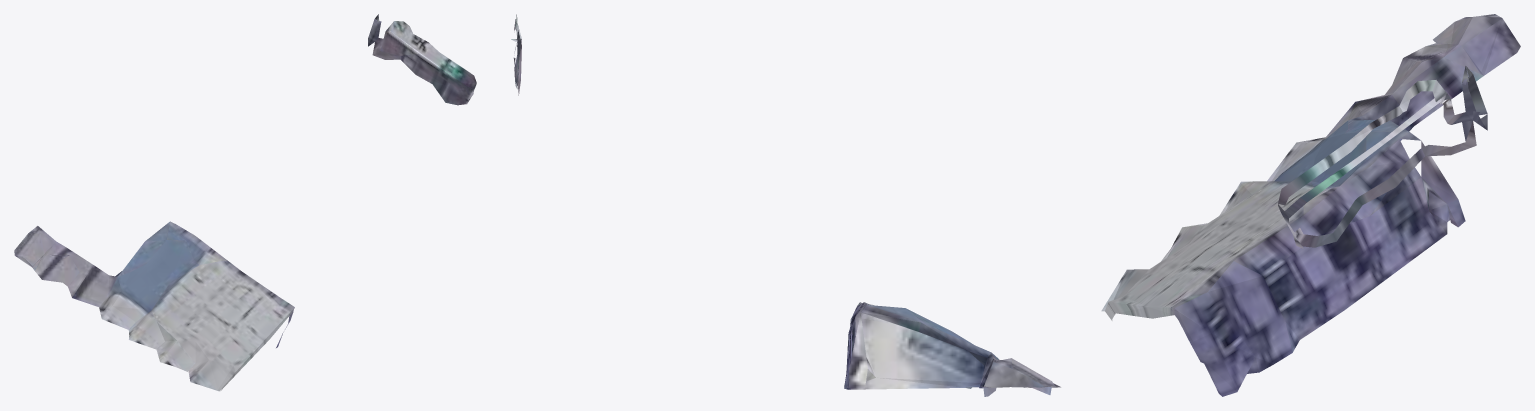
Rendered from UlRPVEYubm9kZWRhdGEucGxhbmV0b2lkPWVhcnRoLG5vZGVfZGF0YV9lcG9jaD05MTYscGF0aD0zMTQzNDE1MjYwNzM2MjcxNjY3NSxjYWNoZV92ZXJzaW9uPTY.glb.
3 views of the same model, side by side, from view 1: azimuth 30°, elevation 25°; view 2: azimuth 150°, elevation 25°; view 3: azimuth 270°, elevation 25° (orthographic). The views are drawn at different scales.
Size of the model in its own units: 38.39 by 22.2 by 17.55.
1 material, 1 textured.
